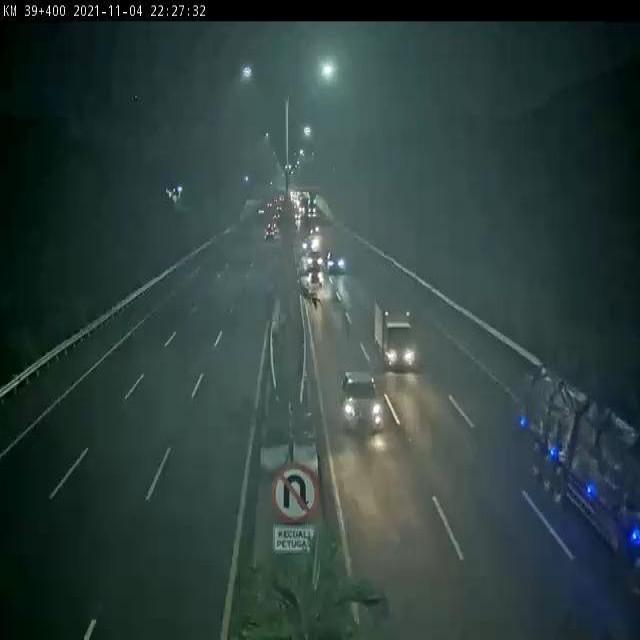car: (340, 369, 382, 434)
truck-s-: (375, 295, 415, 372)
truck-xl-: (518, 365, 640, 568)
